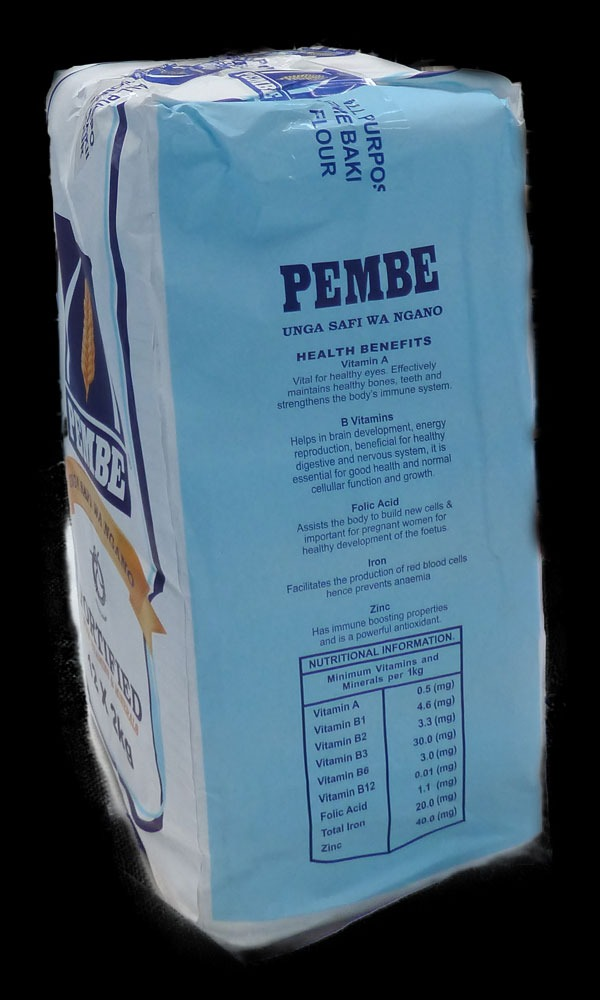wheat_flour_blue_label: (46, 63, 544, 951)
